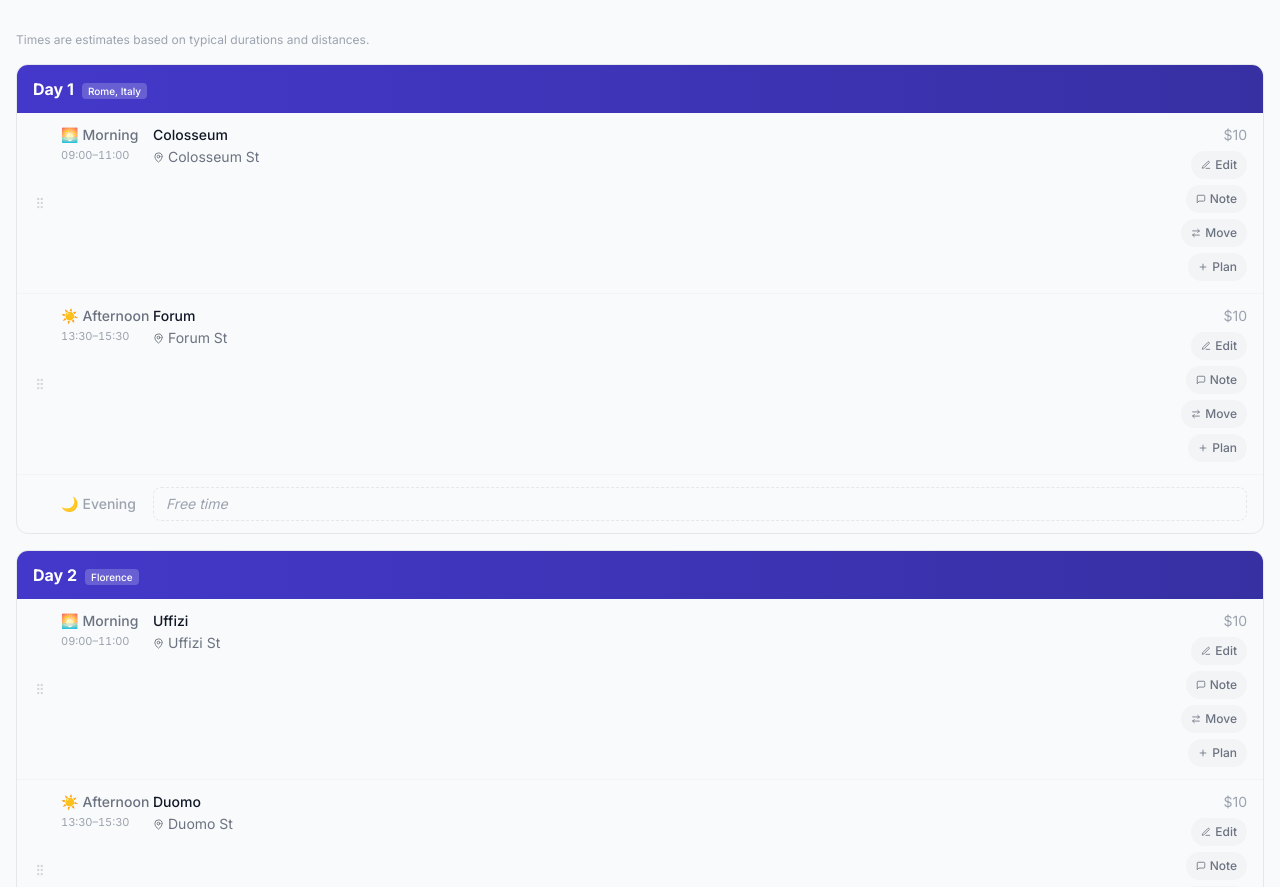
Test case: ItinerarySection › Move menu lists exactly the valid targets and moves via the menu
The image size is (1280, 887).
Click the 1st button "Move": point(1214, 233) [1181,219,1247,247]
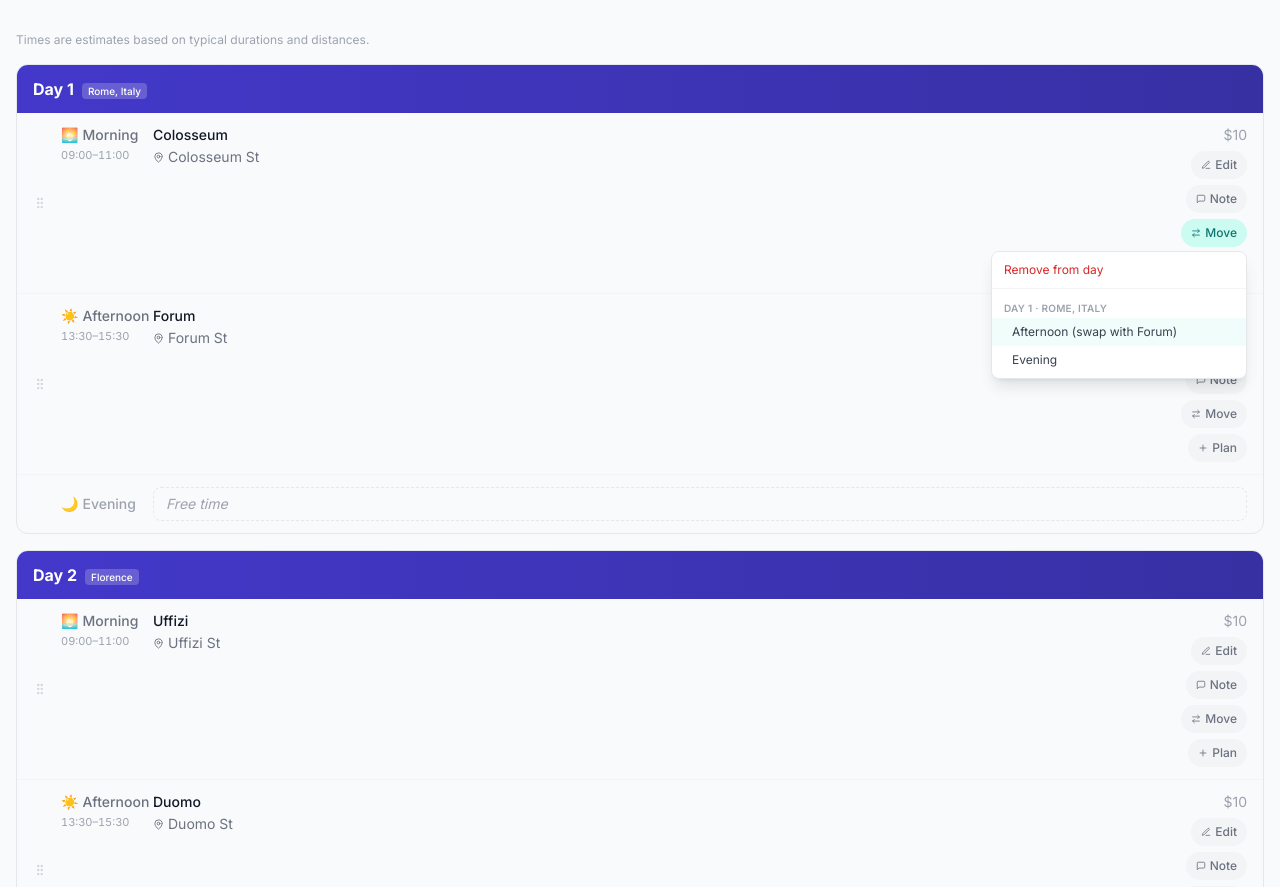
Expected: the 1st button "Move" is expanded, [1181,219,1247,247]
Click the menu item "Evening": point(1119, 360) [992,346,1246,374]
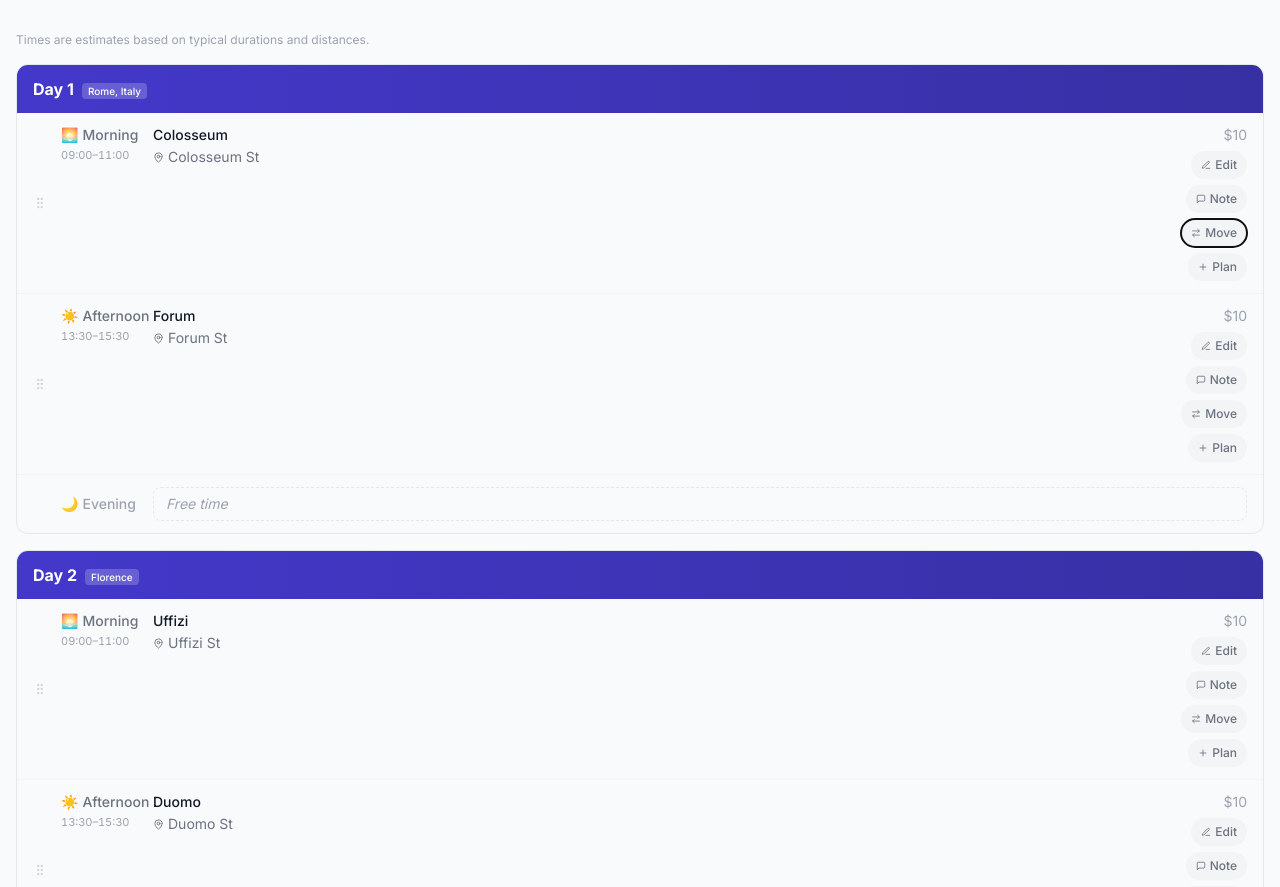
Expected: the menu is gone
